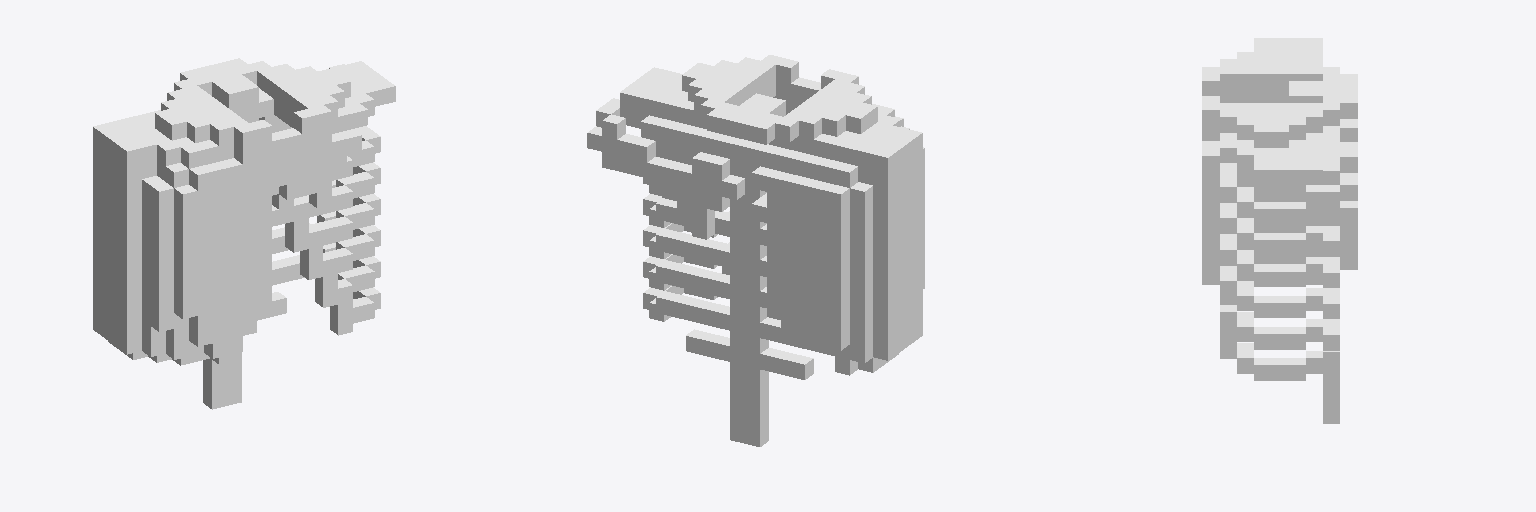
The model's file is EnemySkeleton2-11.obj.
The picture shows the model from 3 angles: view 1: azimuth 30°, elevation 25°; view 2: azimuth 150°, elevation 25°; view 3: azimuth 270°, elevation 25°; orthographic projection.
Visible parts, largest first — view 1: object 1; view 2: object 1; view 3: object 1.
Boxes of the visible parts, x1,y1,x2,y2 form: object 1: [93, 58, 395, 409]; object 1: [587, 55, 924, 446]; object 1: [1202, 38, 1357, 423].
Bounding box in the file's own units: 1.9 × 2.1 × 0.9.